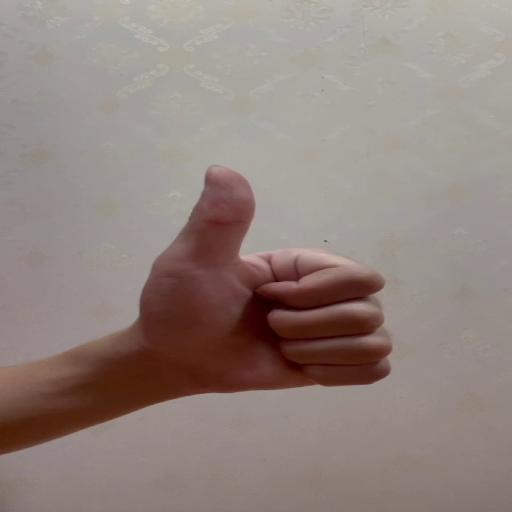thumbs_up: (149, 163, 397, 394)
